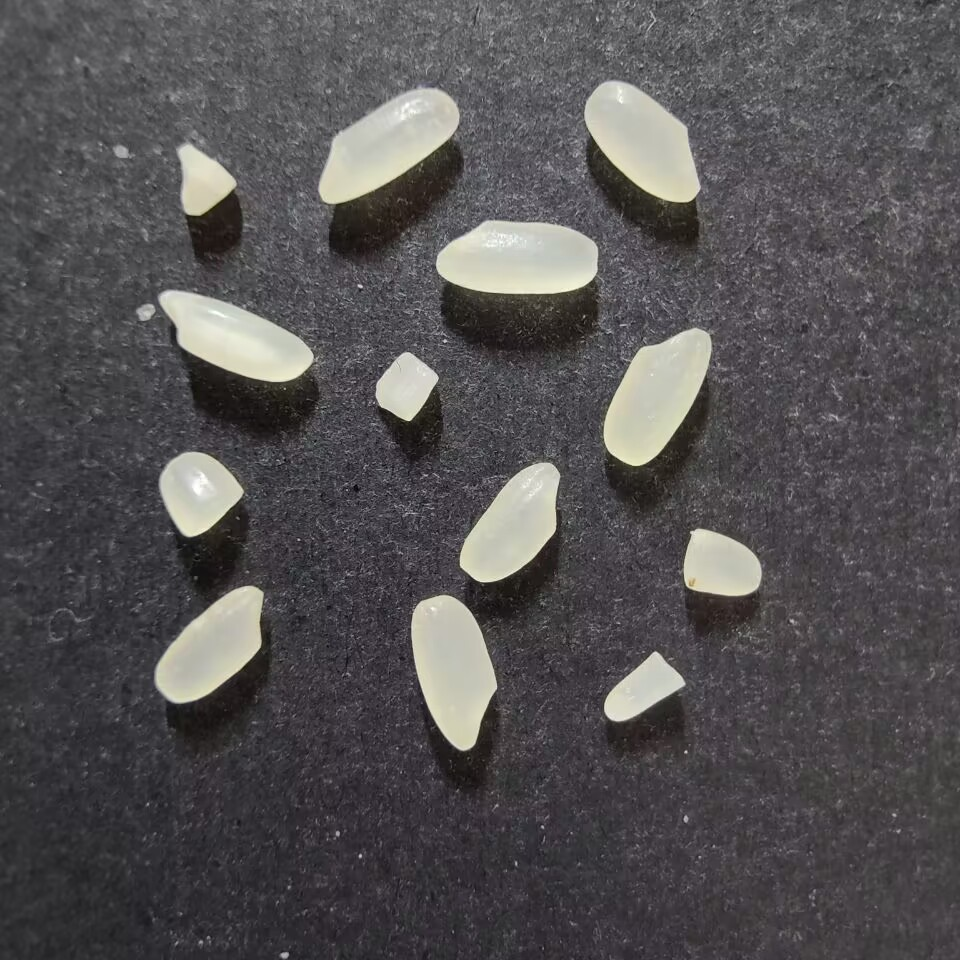broken: (158, 451, 243, 539), (602, 649, 686, 722), (682, 528, 762, 596), (374, 350, 439, 422), (176, 141, 237, 217)
rice: (317, 87, 459, 204), (602, 326, 713, 466), (158, 289, 313, 383), (583, 79, 700, 203), (409, 595, 498, 752), (152, 584, 264, 704), (458, 461, 560, 584), (435, 219, 599, 294)
